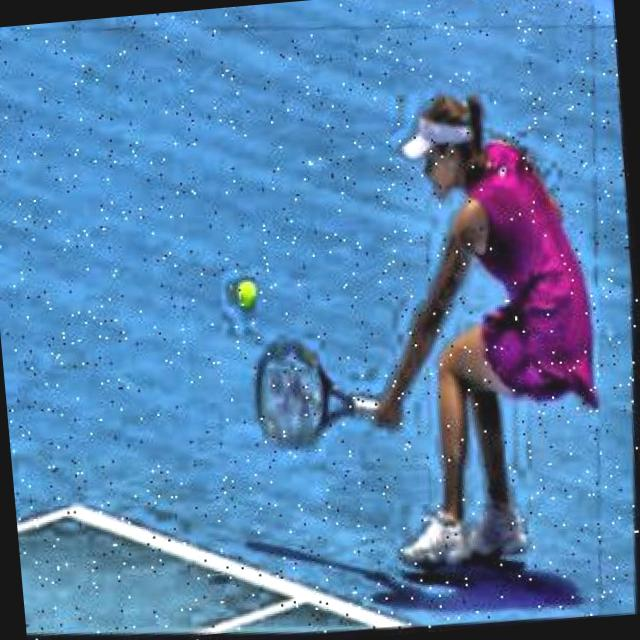Tennis Ball: (225, 275, 258, 318)
